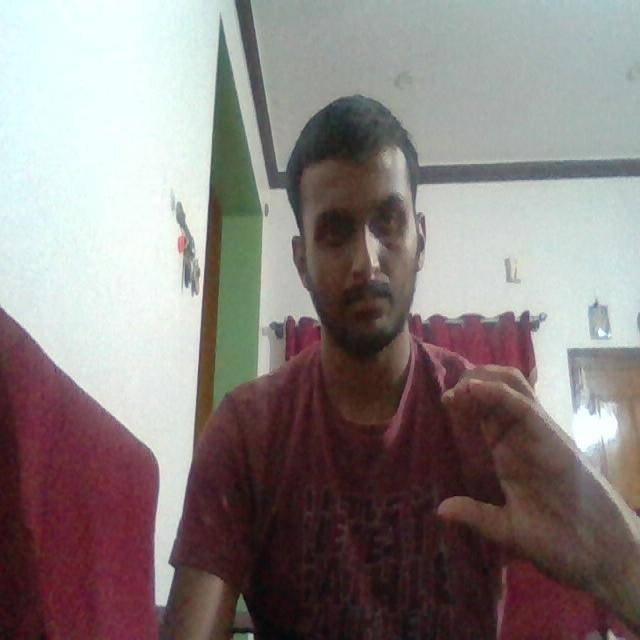no: (406, 354, 611, 597)
